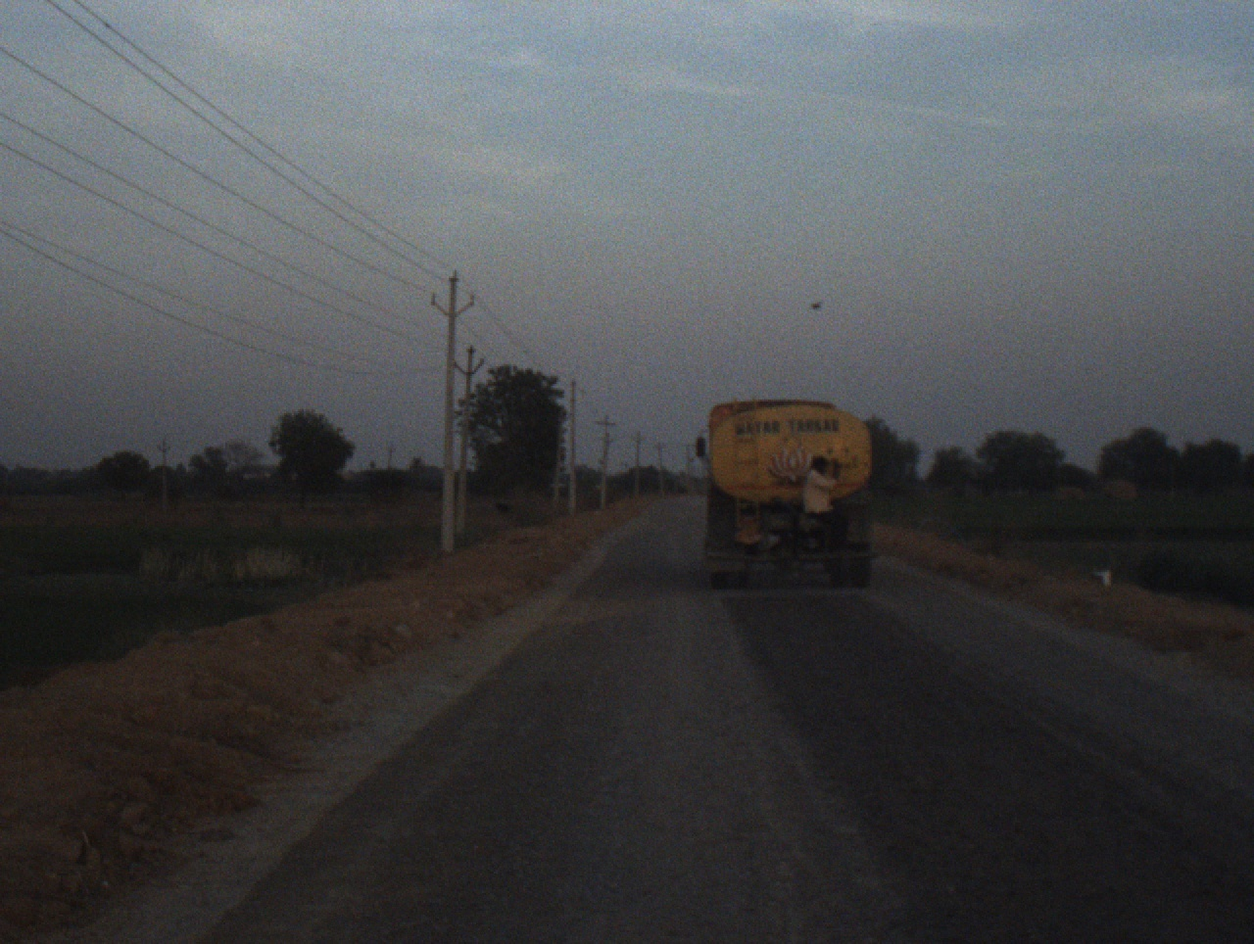rider: (801, 448, 841, 558)
truck: (696, 395, 880, 597)
